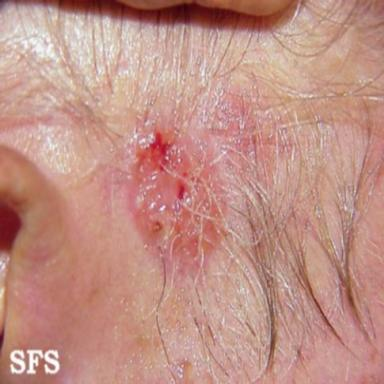basal-cell-carcinoma: (126, 128, 224, 285)
